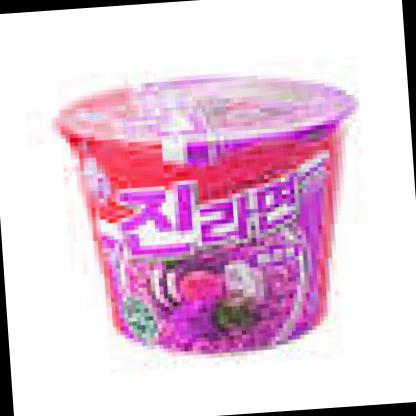Ramen: (56, 67, 369, 358)
